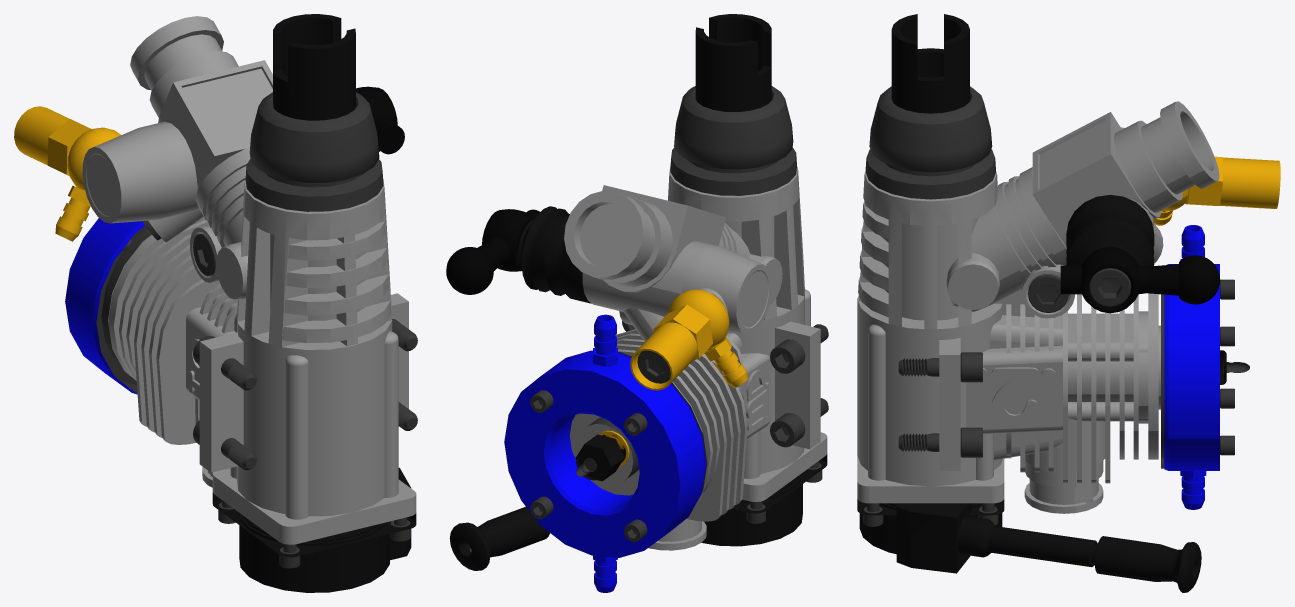
Rendered from nitro engine.FBX.
3 views of the same model, side by side, from view 1: azimuth 30°, elevation 25°; view 2: azimuth 150°, elevation 25°; view 3: azimuth 270°, elevation 25° (orthographic). The views are drawn at different scales.
Visible parts, largest first — view 1: polySurf31, polySurf40, polySurf45, polySurf61, polySurf66, polySurf57, polySurf39, polySurf36, polySurf69, pCylinde15, polySurf30, polySurf12 (+31 smaller); view 2: pCylinde15, polySurf40, polySurf61, polySurf45, polySurf69, polySurf66, polySurf90, polySurf36, polySurf89, polySurf60, polySurf39, polySurf59 (+28 smaller); view 3: polySurf31, polySurf40, pCylinde15, polySurf89, polySurf45, polySurf57, polySurf66, pCube5, polySurf90, polySurf86, polySurf69, polySurf37 (+46 smaller).
Boxes of the visible parts, x1,y1,x2,y2 form: polySurf31: [237, 316, 392, 516]; polySurf40: [245, 92, 383, 211]; polySurf45: [237, 178, 391, 346]; polySurf61: [82, 121, 199, 223]; polySurf66: [273, 14, 355, 120]; polySurf57: [159, 60, 272, 185]; polySurf39: [239, 513, 389, 592]; polySurf36: [199, 293, 408, 472]; polySurf69: [14, 106, 120, 241]; pCylinde15: [65, 218, 144, 394]; polySurf30: [212, 468, 416, 544]; polySurf12: [156, 279, 220, 444]; pCylinde15: [504, 350, 706, 557]; polySurf40: [670, 86, 796, 195]; polySurf61: [582, 241, 772, 334]; polySurf45: [668, 165, 804, 319]; polySurf69: [630, 288, 747, 390]; polySurf66: [695, 14, 771, 111]; polySurf90: [516, 206, 591, 303]; polySurf36: [775, 321, 820, 449]; polySurf89: [449, 506, 549, 570]; polySurf60: [564, 191, 650, 279]; polySurf39: [701, 473, 802, 546]; polySurf59: [580, 203, 655, 276]; polySurf31: [857, 295, 1002, 486]; polySurf40: [865, 86, 995, 199]; pCylinde15: [1164, 264, 1219, 470]; polySurf89: [958, 516, 1201, 592]; polySurf45: [863, 171, 997, 329]; polySurf57: [1032, 112, 1136, 234]; polySurf66: [891, 14, 969, 113]; pCube5: [966, 345, 1062, 433]; polySurf90: [1066, 194, 1154, 266]; polySurf86: [896, 503, 971, 573]; polySurf69: [1154, 156, 1280, 225]; polySurf37: [881, 217, 978, 320].
Size of the model in its own units: 22.55 by 36.73 by 28.17.
